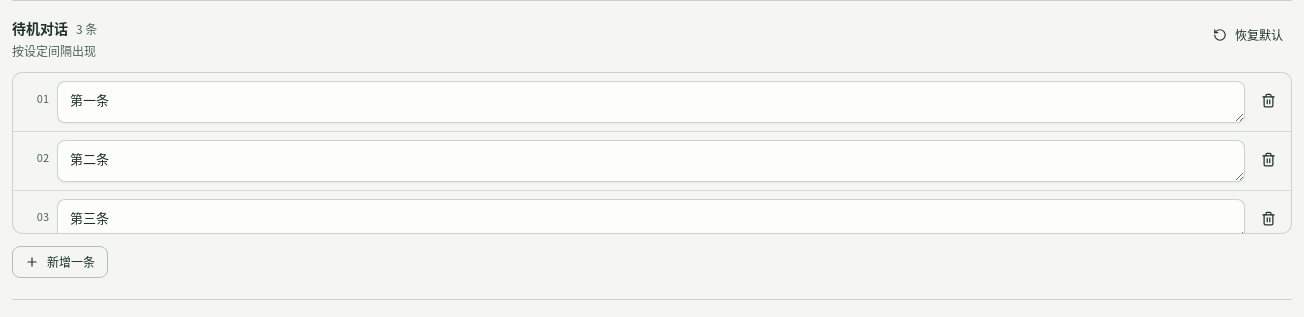
it: DialogueListEditor › removes only the selected dialogue
Click the button named "删除待机对话第 2 条". click: (1268,159)
box: [1253,144,1283,174]
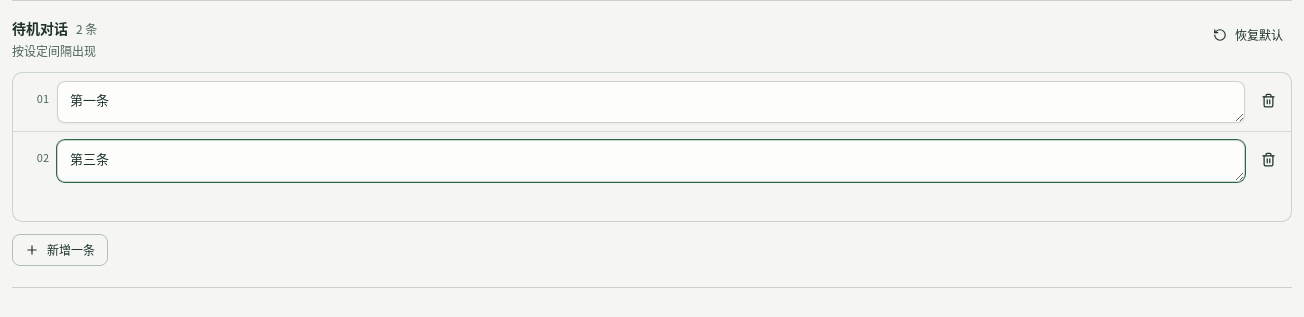
Check: the text box named "待机对话第 1 条" holds "第一条", box [57,81,1245,123]
Check: the text box named "待机对话第 2 条" holds "第三条", box [57,140,1245,182]
